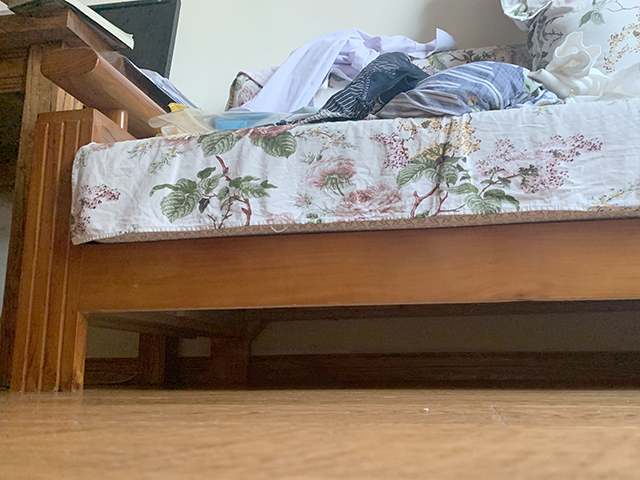sofa: (1, 1, 640, 394)
